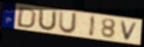8: (100, 18, 118, 39)
D: (16, 6, 38, 29)
I: (89, 15, 97, 38)
U: (36, 8, 58, 32), (58, 10, 79, 35)
V: (120, 20, 140, 42)
